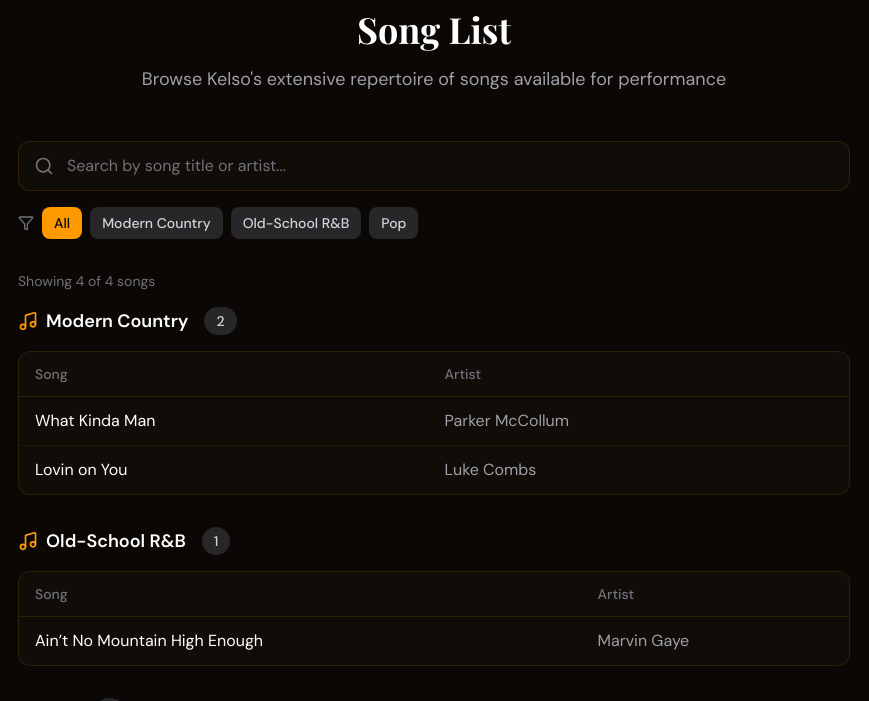
Test case: SongsClient › filters by song title (case-insensitive)
Step 1. Type "yellow" into the field with placeholder "Search by song title or artist..." → (434, 166), box [18,141,850,191]
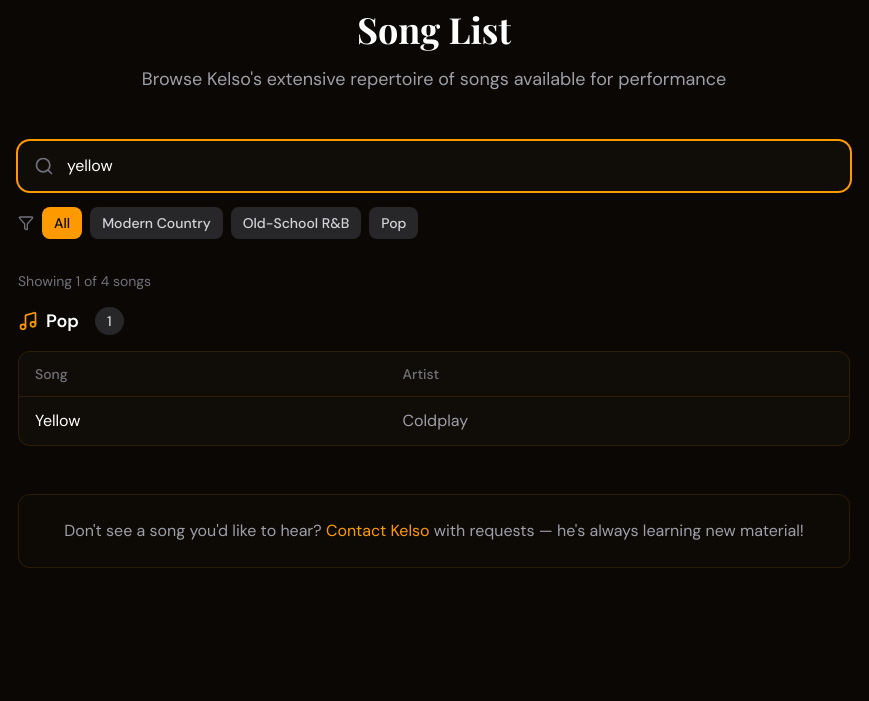
Expected: the text "Yellow" is shown, [19,396,387,445]
Now the text "Showing 1 of 4 songs" is shown, box [18,272,151,290]
Now the text "What Kinda Man" is gone
